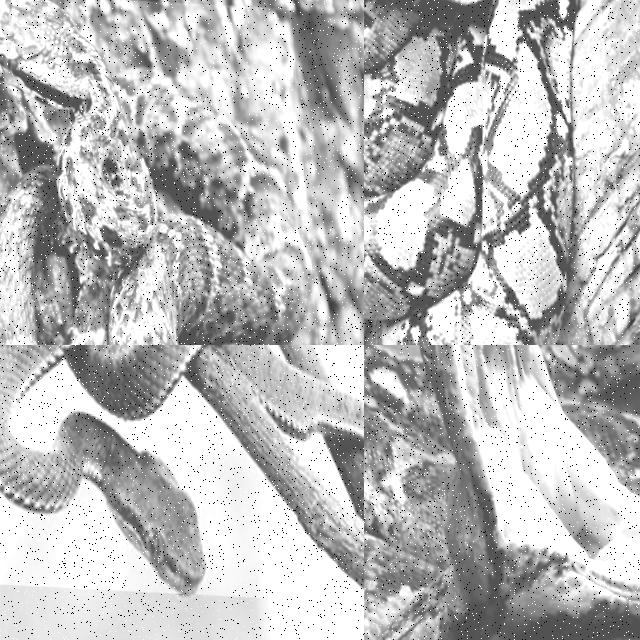Malayopython reticulatus: (364, 345, 639, 639), (364, 0, 578, 344)
Ovophis monticola: (0, 0, 312, 344)
Trimeresurus: (0, 345, 201, 593)
